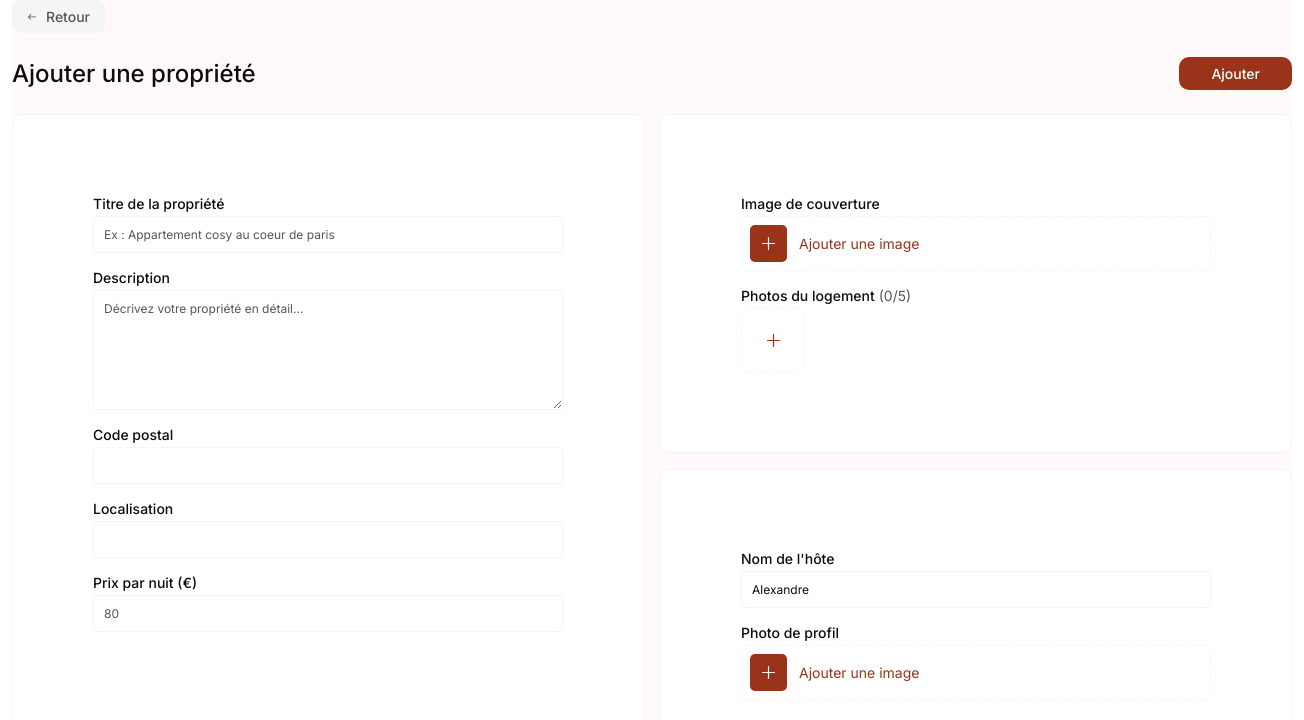
Test case: AddPropertyForm › shows an error and does not create the property when updating the host profile fails
Type "Appartement cosy" into the field labelled "Titre de la propriété" at x=328, y=234, box [93, 216, 563, 253]
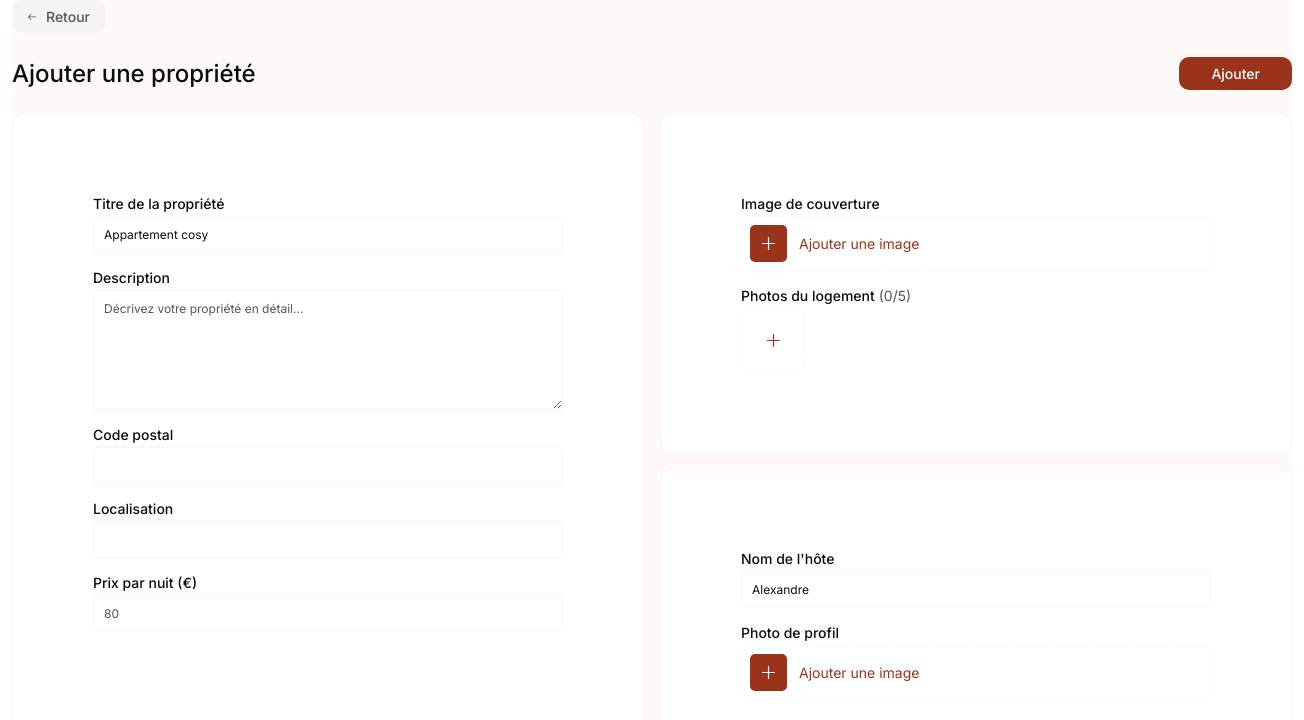
Replace the text in the field labelled "Nom de l'hôte" with "Nouveau nom" at x=976, y=590, box [741, 571, 1211, 608]
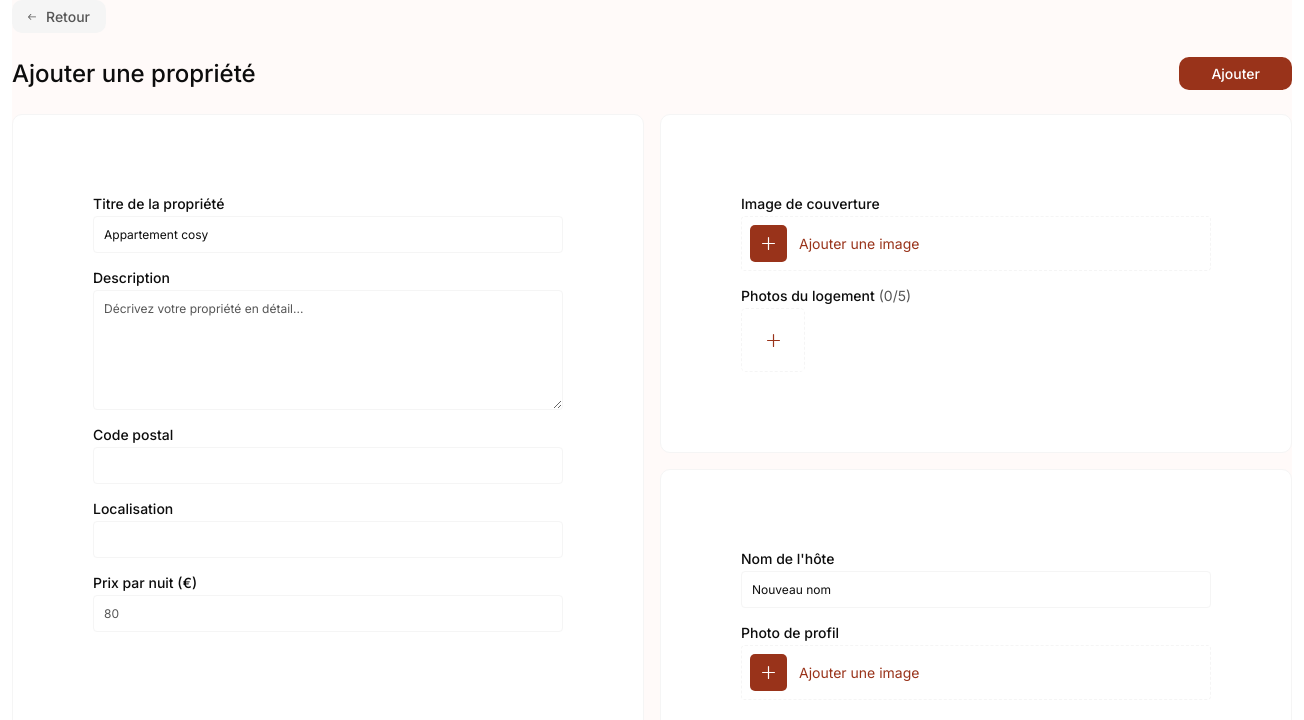
Click the button "Ajouter" at x=1236, y=74, box [1179, 57, 1292, 90]
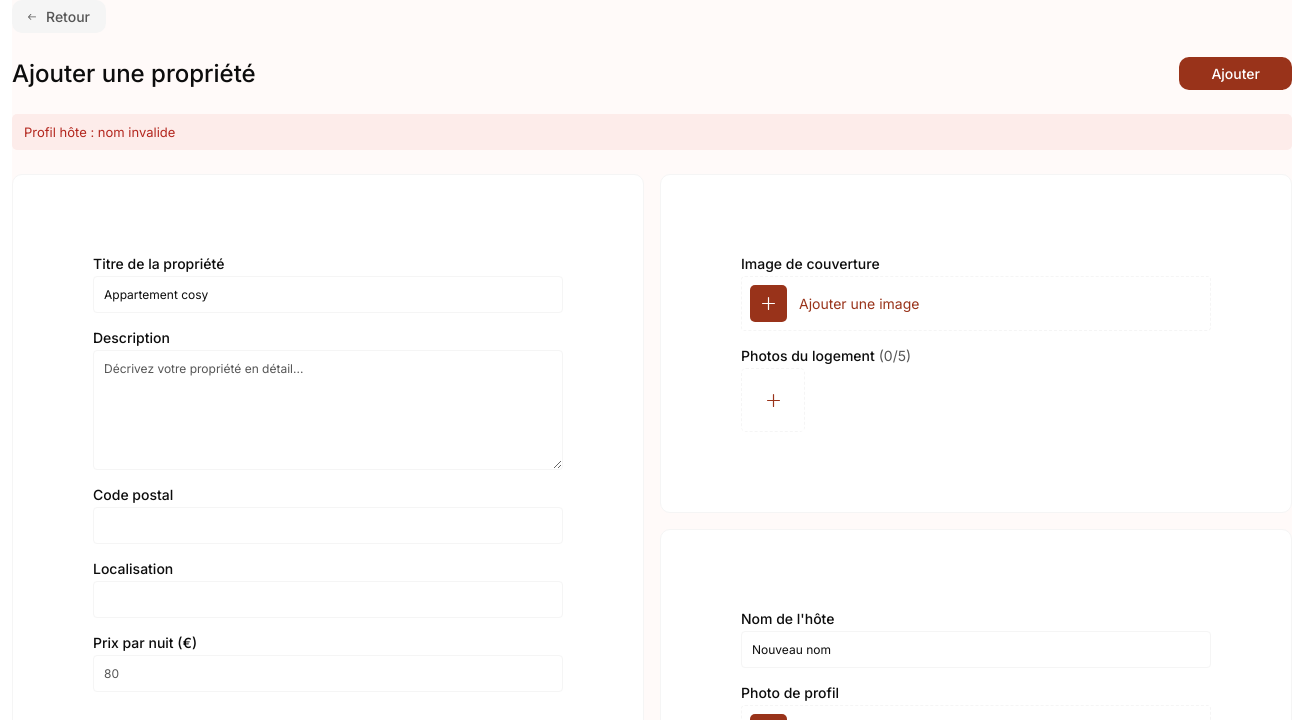
Expected: the message reads "Profil hôte : nom invalide", [24, 124, 175, 140]
